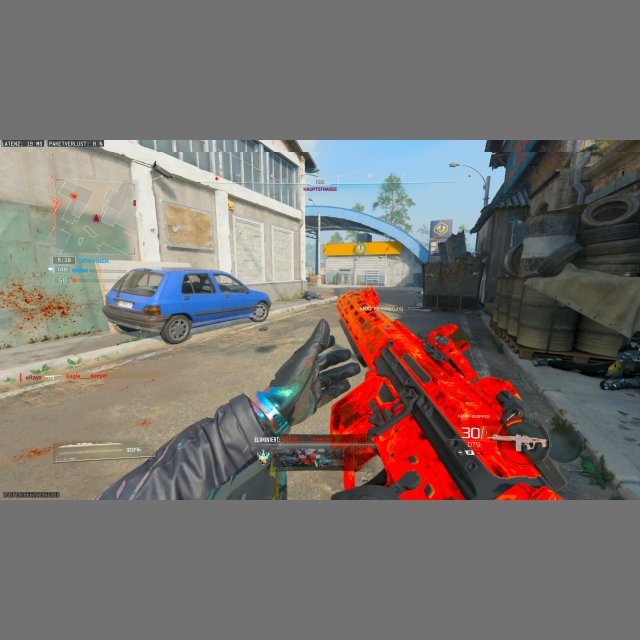head: (630, 331, 640, 346)
player: (600, 327, 640, 394)
